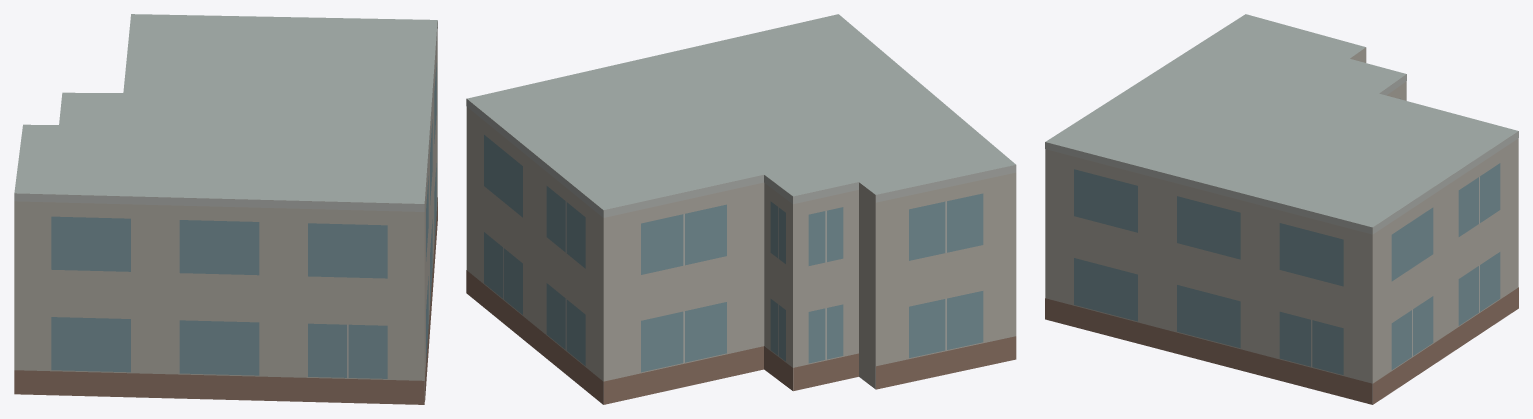
File: survey-upis-32717873.glb
3 views of the same model, side by side, from view 1: azimuth 30°, elevation 25°; view 2: azimuth 150°, elevation 25°; view 3: azimuth 270°, elevation 25° (orthographic). The views are drawn at different scales.
Parts seen in each view (by area): view 1: survey-upis-32717873.tmp; view 2: survey-upis-32717873.tmp; view 3: survey-upis-32717873.tmp.
Boxes of the visible parts, x1,y1,x2,y2 form: survey-upis-32717873.tmp: [14, 14, 437, 404]; survey-upis-32717873.tmp: [466, 14, 1016, 404]; survey-upis-32717873.tmp: [1045, 14, 1518, 404].
Size of the model in its own units: 15.75 by 6.1 by 14.77.
